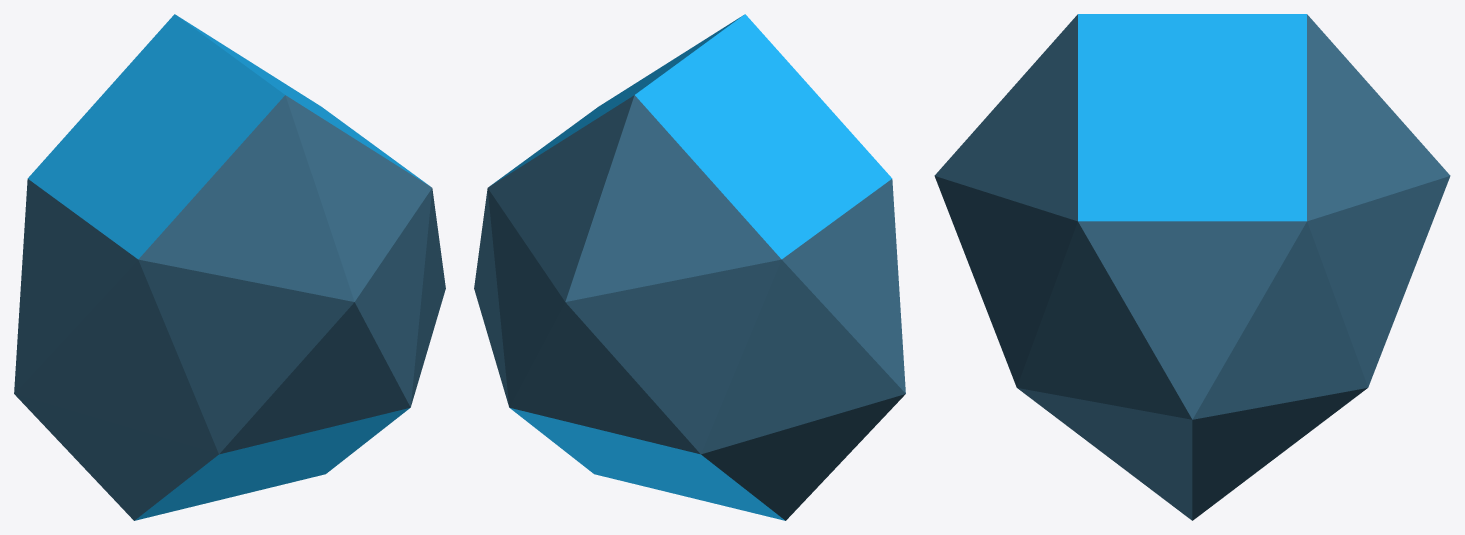
File: J90.Biesfenocingulo.gltf
3 renders of one model, left to right at view 1: azimuth 30°, elevation 25°; view 2: azimuth 150°, elevation 25°; view 3: azimuth 270°, elevation 25°, orthographic. The views are drawn at different scales.
Visible parts, largest first — view 1: J90.Biesfenocingulo; view 2: J90.Biesfenocingulo; view 3: J90.Biesfenocingulo.
Part boxes in pixels (bbox=[...]): J90.Biesfenocingulo: bbox=[14, 14, 445, 520]; J90.Biesfenocingulo: bbox=[474, 14, 905, 520]; J90.Biesfenocingulo: bbox=[934, 14, 1450, 520].
Bounding box in the file's own units: 18.58 × 18.22 × 18.58.
